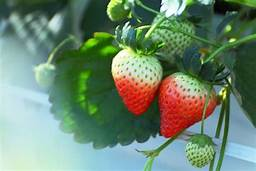Fresa: (109, 43, 169, 118), (157, 68, 220, 139)
